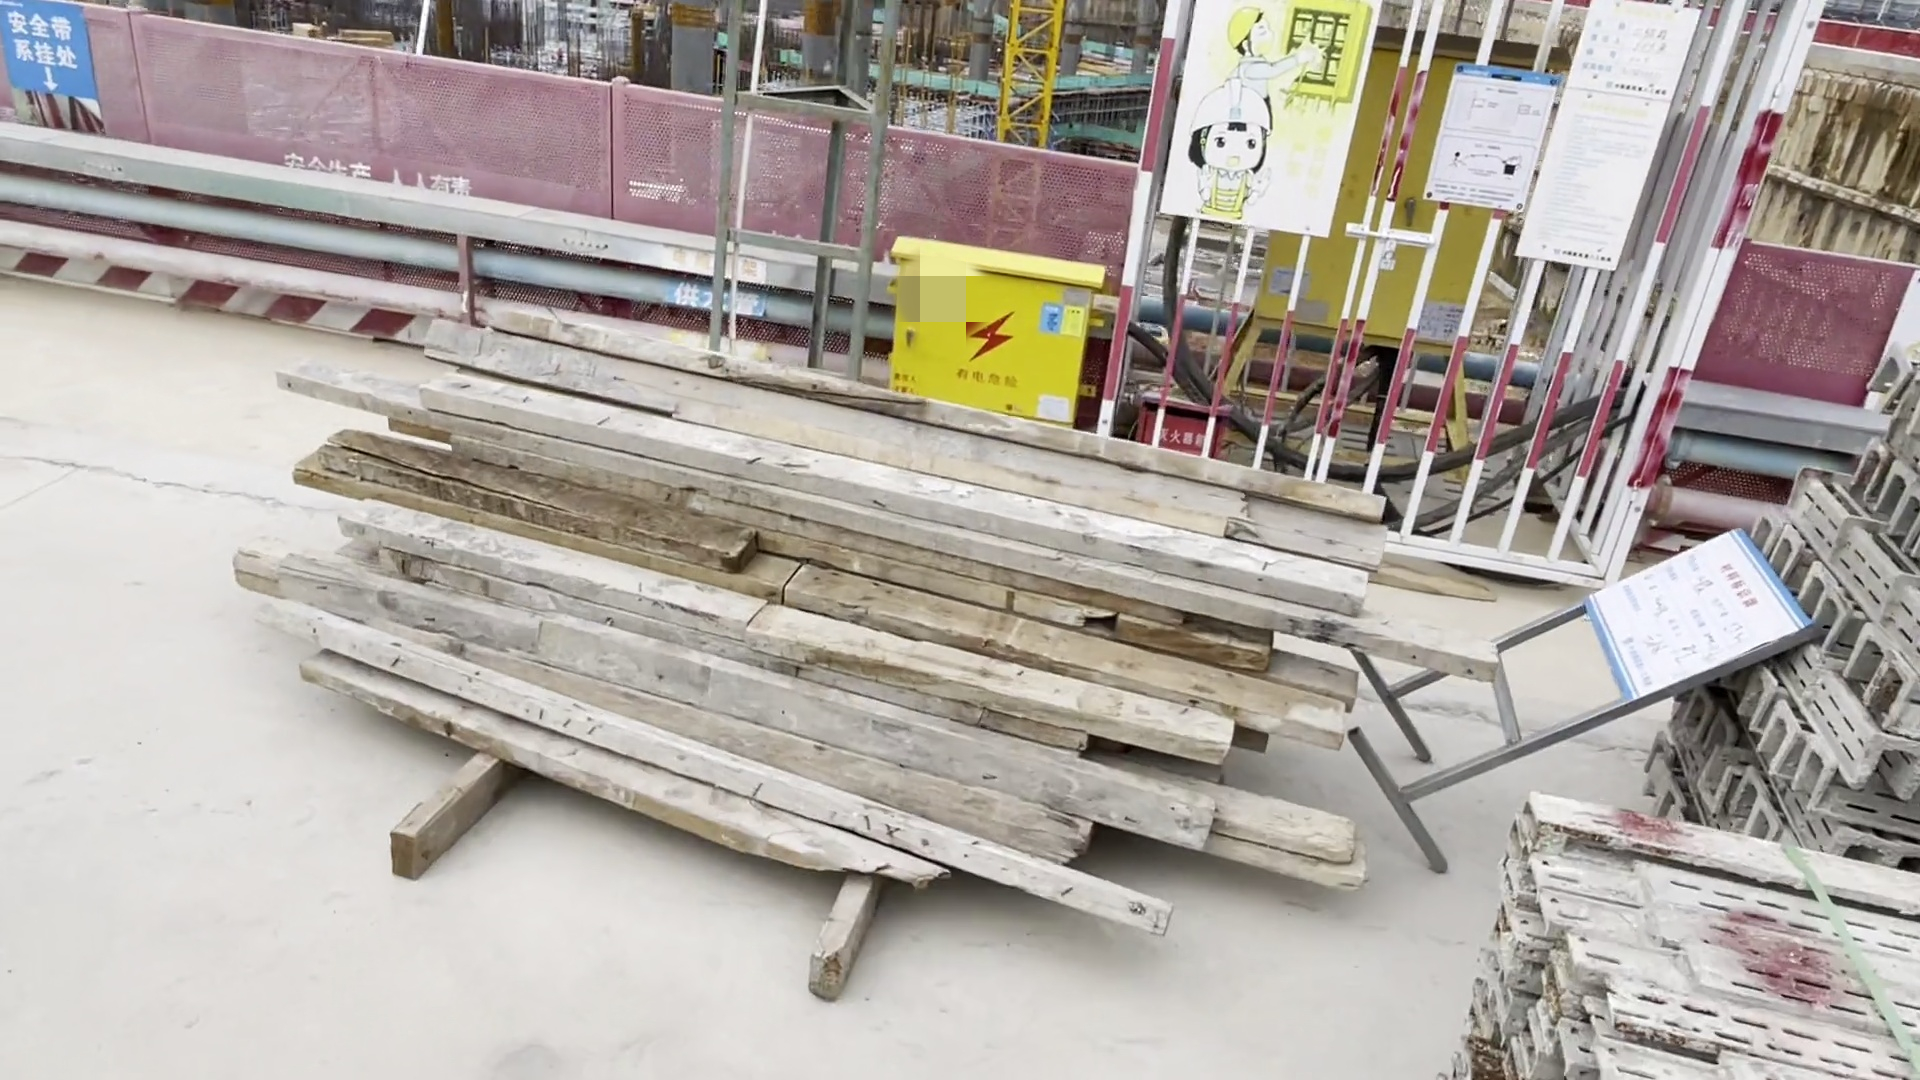ebox: (1220, 45, 1575, 477), (880, 232, 1105, 433)
fence: (1, 3, 1139, 421)
wood: (233, 314, 1501, 932)
